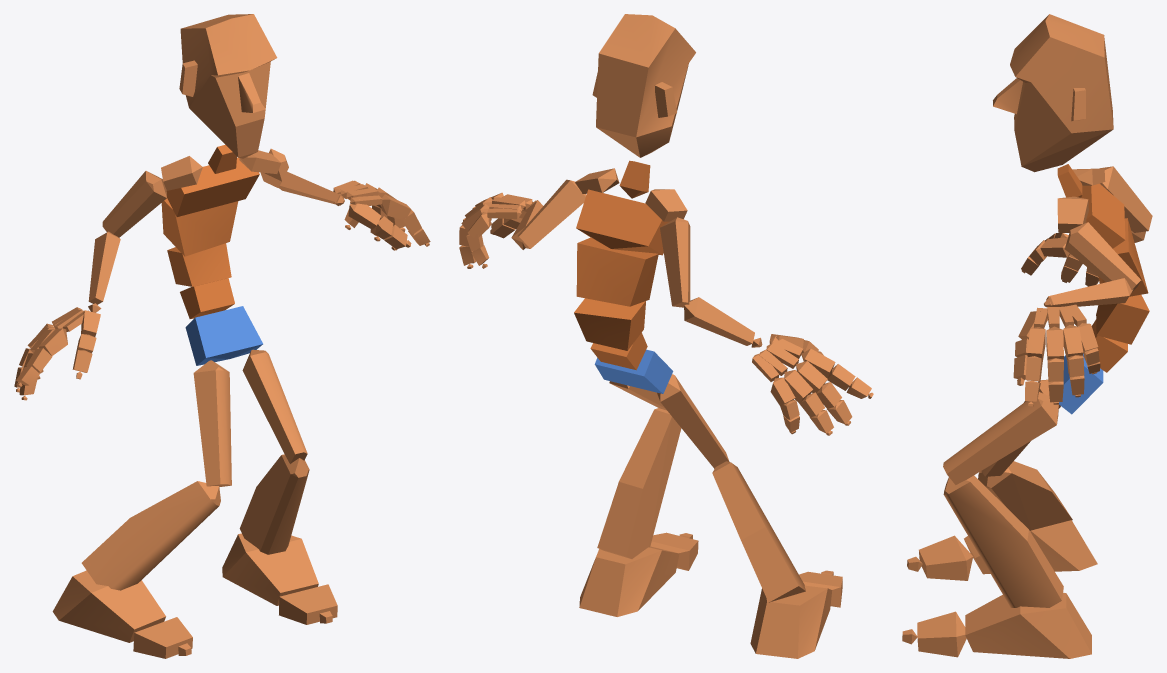
File: prueba269.obj
The picture shows the model from 3 angles, left to right: view 1: azimuth 30°, elevation 25°; view 2: azimuth 150°, elevation 25°; view 3: azimuth 270°, elevation 25°; orthographic projection. The views are drawn at different scales.
Parts seen in each view (by area): view 1: BOPED_Head, BOPED_R_leg, BOPED_R_foot, BOPED_L_leg, BOPED_R_foot01, BOPED_R_legup, Bone01, BOPED_L_legup, Bone04, Bone05, BOPED_R_arm_upper, Bone03 (+8 smaller); view 2: BOPED_Head, BOPED_L_leg, BOPED_R_leg, BOPED_R_foot01, BOPED_R_foot, Bone04, Bone05, Bone03, BOPED_R_legup, BOPED_R_arm_upper, BOPED_L_arm_upper, Bone01 (+7 smaller); view 3: BOPED_Head, BOPED_L_leg, BOPED_R_foot01, BOPED_L_legup, BOPED_R_leg, BOPED_R_foot, BOPED_L_arm_upper, Bone03, Bone05, BOPED_R_foot_toe01, BOPED_R_foot_toe04, BOPED_L_arm_fore (+15 smaller).
Part boxes in pixels (x1,y1,x2,y2): BOPED_Head: (179, 14, 277, 158); BOPED_R_leg: (81, 481, 220, 590); BOPED_R_foot: (52, 570, 165, 642); BOPED_L_leg: (239, 454, 309, 554); BOPED_R_foot01: (222, 533, 318, 605); BOPED_R_legup: (193, 360, 231, 486); Bone01: (185, 306, 262, 365); BOPED_L_legup: (242, 349, 307, 463); Bone04: (161, 198, 238, 256); Bone05: (166, 157, 259, 216); BOPED_R_arm_upper: (102, 171, 166, 237); Bone03: (167, 243, 231, 286); BOPED_Head: (592, 14, 695, 157); BOPED_L_leg: (597, 408, 681, 558); BOPED_R_leg: (712, 461, 805, 602); BOPED_R_foot01: (579, 546, 679, 616); BOPED_R_foot: (750, 585, 832, 658); Bone04: (576, 237, 658, 306); Bone05: (576, 189, 669, 255); Bone03: (574, 298, 645, 350); BOPED_R_legup: (657, 374, 729, 468); BOPED_R_arm_upper: (660, 217, 690, 307); BOPED_L_arm_upper: (517, 179, 586, 248); Bone01: (594, 349, 673, 393); BOPED_Head: (993, 14, 1113, 172); BOPED_L_leg: (943, 475, 1063, 607); BOPED_R_foot01: (965, 592, 1091, 658); BOPED_L_legup: (943, 392, 1058, 484); BOPED_R_leg: (978, 461, 1072, 530); BOPED_R_foot: (964, 520, 1097, 574); BOPED_L_arm_upper: (1065, 222, 1141, 292); Bone03: (1096, 294, 1149, 344); Bone05: (1081, 183, 1125, 248); BOPED_R_foot_toe01: (919, 535, 973, 580); BOPED_R_foot_toe04: (917, 611, 966, 657); BOPED_L_arm_fore: (1046, 278, 1133, 306).
Bounding box in the file's own units: 130 × 175 × 65.1.
